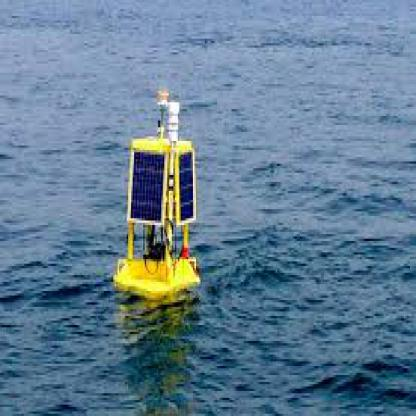buoy: (107, 78, 210, 312)
